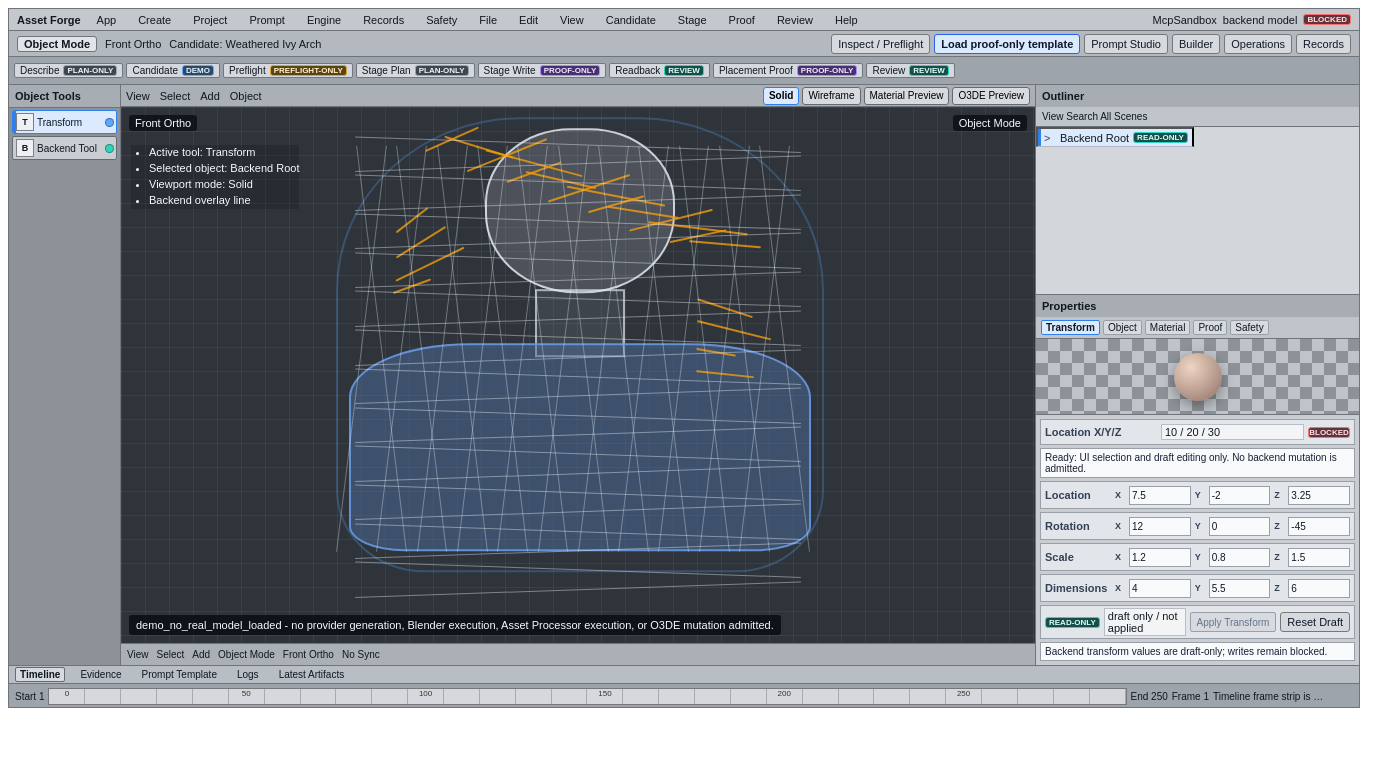
Scenario: AssetForgeBlenderCockpit › seeds and resets transform draft values from the backend editor model
Check: the field named "Rotation Z" holds "-45", box [1288,516,1350,536]
Check: the text "Backend transform values are draft-only; writes remain blocked." is shown, box [1040,642,1355,661]
Step 1. Replace the text in the field named "Location X" with "99" → point(1160, 495), box [1129,486,1191,504]
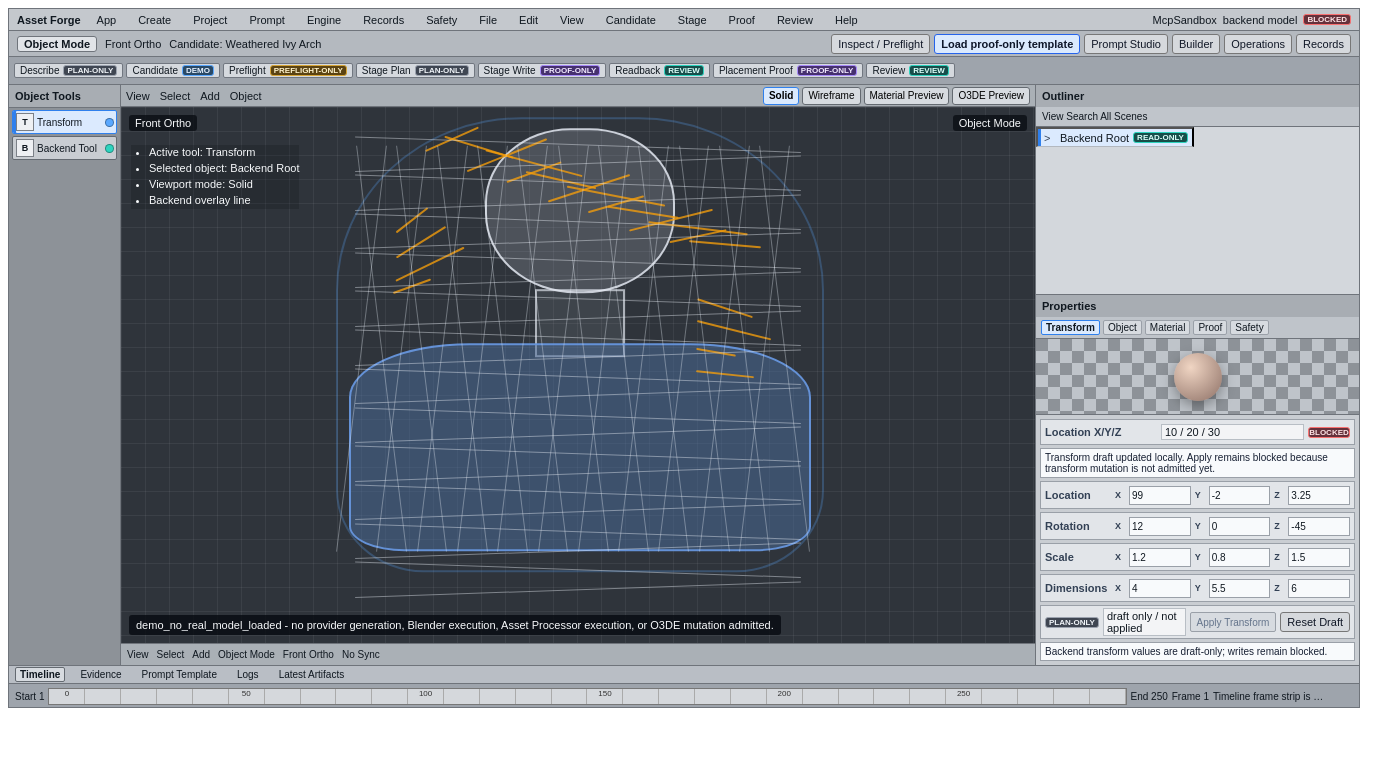
Step 2. Click the button "Reset Draft" → point(1315, 622), box [1280,612,1350,632]
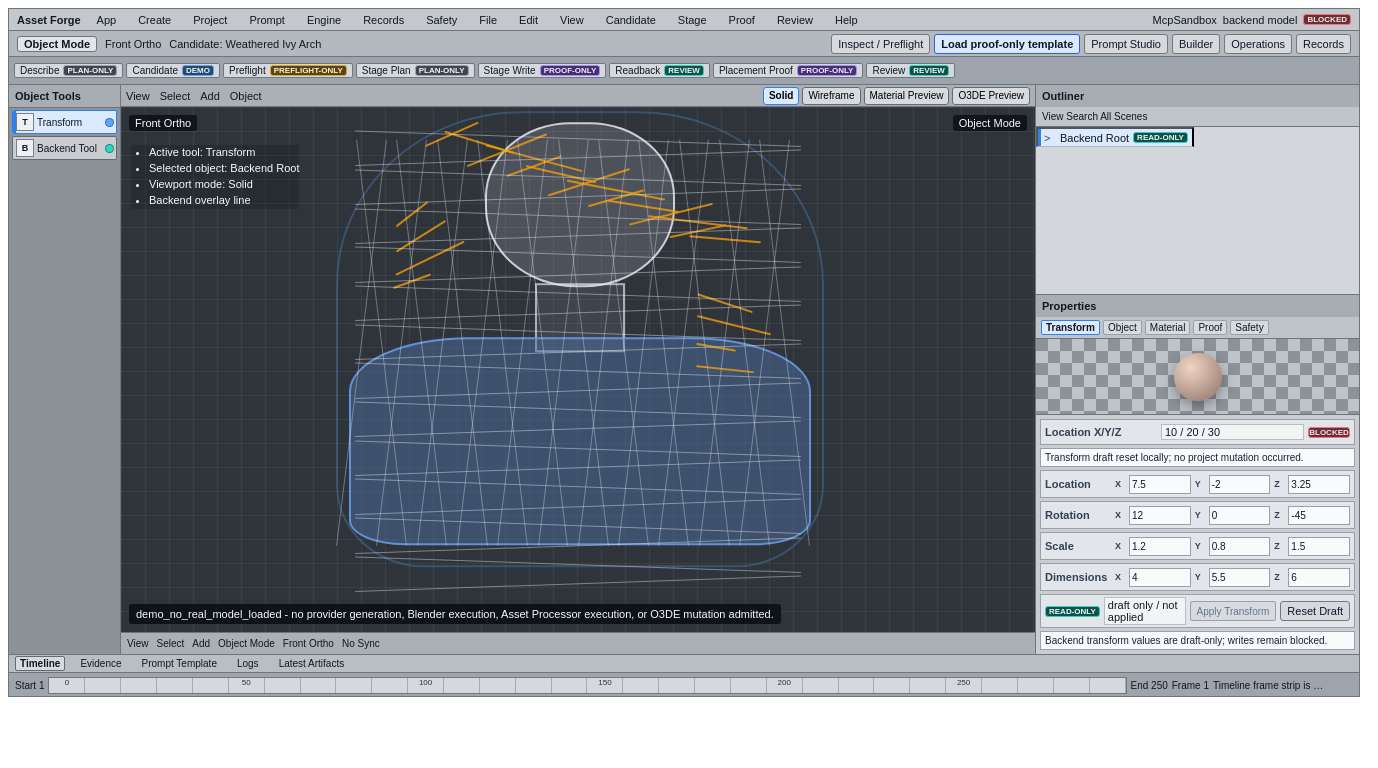
Check: the field named "Rotation Z" holds "-45", box [1288,506,1350,524]
Check: the field named "Location X" holds "7.5", box [1129,474,1191,494]
